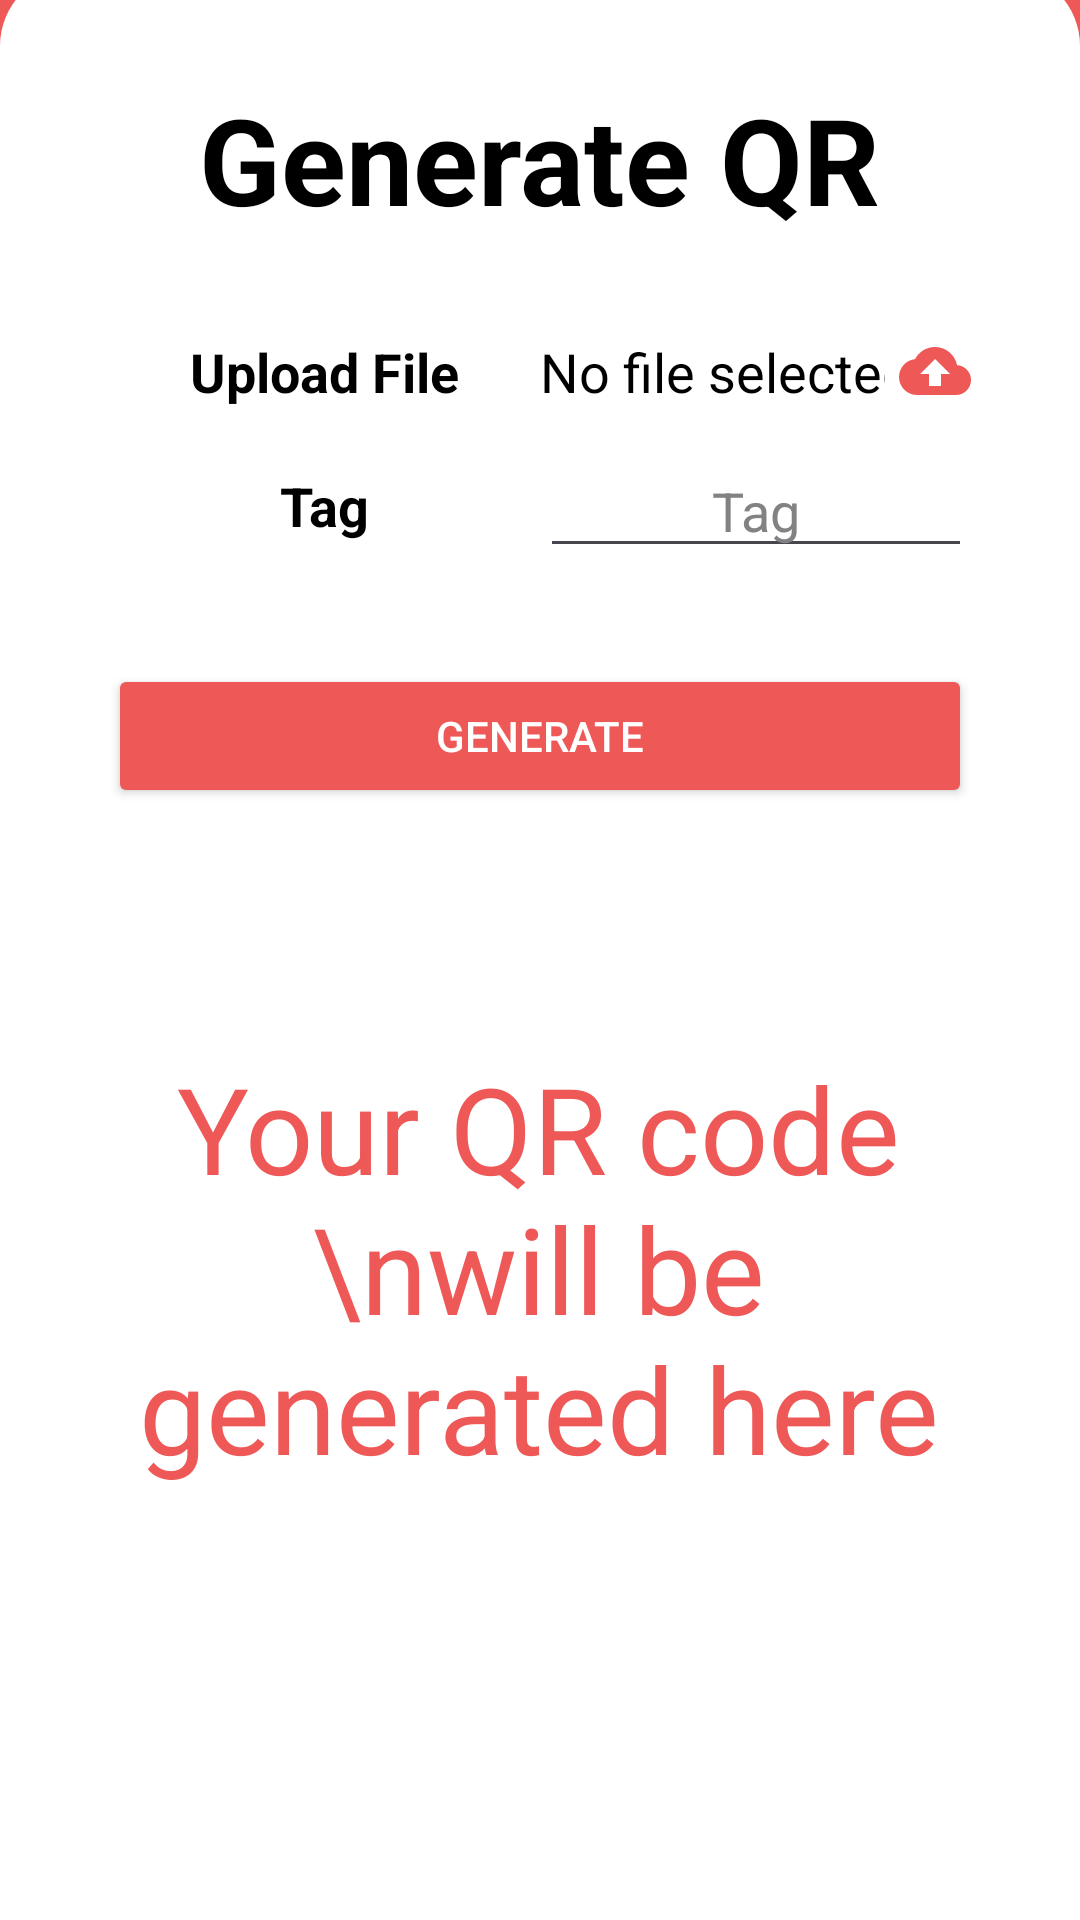

Where icons sit on this 1080 × 1920 app screen, as bbox=[x1, y1, x2, y2]:
upload: bbox=[899, 347, 971, 395]
